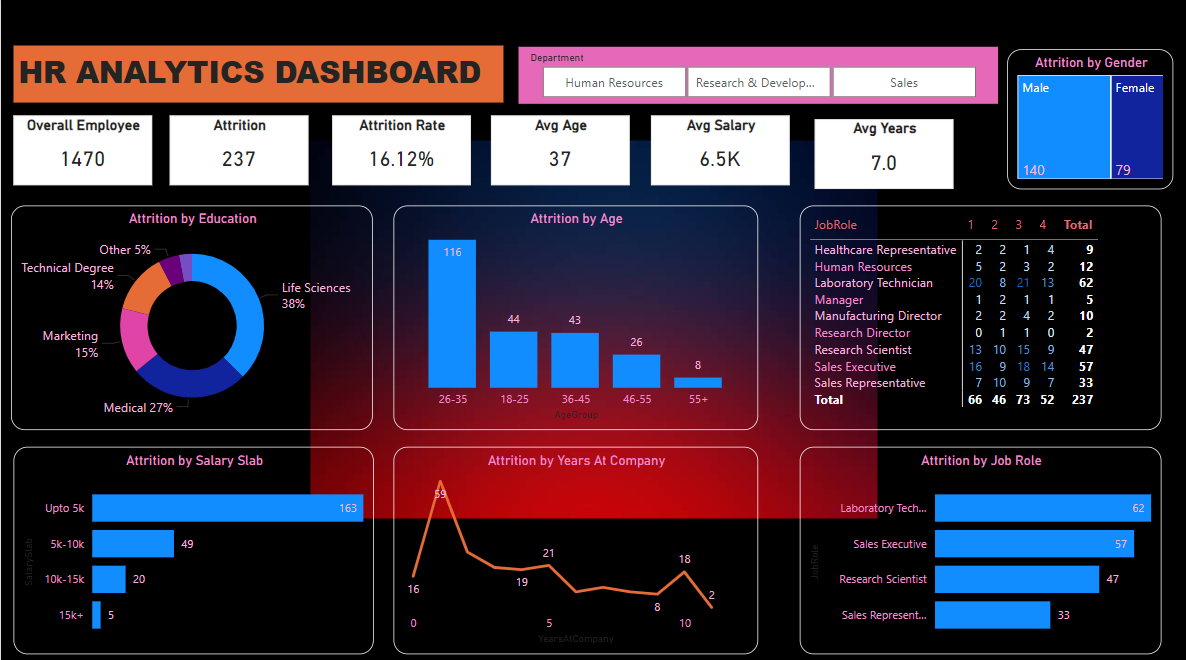

The dashboard page shown, as its layout file describes it:
{"tool":"powerbi","page":{"name":"Page 1","canvas":[1280,720],"ordinal":0},"visuals":[{"type":"card","title":"Overall Employee","fields":{"Values":["CountNonNull(HR_Analytics.EmpID)"]},"box":[12.8,126.9,149.7,75.5],"z":0},{"type":"card","title":"Attrition","fields":{"Values":["Sum(HR_Analytics.AtrritionCount)"]},"box":[182.4,126.9,149.7,75.5],"z":1000},{"type":"card","title":"Attrition Rate","fields":{"Values":["HR_Analytics.AttritionRate"]},"box":[357.8,126.9,149.7,75.5],"z":2000},{"type":"card","title":"Avg Age","fields":{"Values":["Avg(HR_Analytics.Age)"]},"box":[528.8,126.9,149.7,75.5],"z":3000},{"type":"card","title":"Avg Salary","fields":{"Values":["Avg(HR_Analytics.MonthlyIncome)"]},"box":[701.3,126.9,149.7,75.5],"z":4000},{"type":"card","title":"Avg Years","fields":{"Values":["Avg(HR_Analytics.YearsAtCompany)"]},"box":[878,131.1,149.7,75.5],"z":5000},{"type":"donutChart","title":"Attrition by Education","fields":{"Y":["Sum(HR_Analytics.AtrritionCount)"],"Category":["HR_Analytics.EducationField"]},"box":[11.4,223.8,390.6,242.3],"z":6000},{"type":"columnChart","title":"Attrition by Age","fields":{"Category":["HR_Analytics.AgeGroup"],"Y":["Sum(HR_Analytics.AtrritionCount)"]},"box":[423.3,223.8,393.4,242.3],"z":7000},{"type":"pivotTable","fields":{"Rows":["HR_Analytics.JobRole"],"Columns":["HR_Analytics.JobSatisfaction"],"Values":["Sum(HR_Analytics.AtrritionCount)"]},"box":[862.4,223.8,390.6,242.3],"z":8000},{"type":"barChart","title":"Attrition by Salary Slab","fields":{"Category":["HR_Analytics.SalarySlab"],"Y":["Sum(HR_Analytics.AtrritionCount)"]},"box":[12.8,484.6,389.1,223.8],"z":9000},{"type":"barChart","title":"Attrition by Job Role","fields":{"Category":["HR_Analytics.JobRole"],"Y":["Sum(HR_Analytics.AtrritionCount)"]},"box":[862.4,484.6,390.6,223.8],"z":10000},{"type":"lineChart","title":"Attrition by Years At Company","fields":{"Category":["HR_Analytics.YearsAtCompany"],"Y":["Sum(HR_Analytics.AtrritionCount)"]},"box":[423.3,484.6,393.4,223.8],"z":11000},{"type":"treemap","title":"Attrition by Gender","fields":{"Values":["Sum(HR_Analytics.AtrritionCount)"],"Group":["HR_Analytics.Gender"]},"box":[1086.1,55.6,179.6,151.1],"z":12000},{"type":"slicer","fields":{"Values":["HR_Analytics.Department"]},"box":[558.8,52.7,517.4,61.3],"z":13000},{"type":"textbox","box":[12.8,51.3,528.8,61.3],"z":14000}]}

Visuals, with their boxes in screenshot pixels (x1, y1, x2, y2), scaled from the page's 1280x720 canvas onto the 1186x660 screenshot:
"Overall Employee" card: (left=12, top=116, right=151, bottom=186)
"Attrition" card: (left=169, top=116, right=308, bottom=186)
"Attrition Rate" card: (left=332, top=116, right=470, bottom=186)
"Avg Age" card: (left=490, top=116, right=629, bottom=186)
"Avg Salary" card: (left=650, top=116, right=789, bottom=186)
"Avg Years" card: (left=814, top=120, right=952, bottom=189)
"Attrition by Education" donutChart: (left=11, top=205, right=372, bottom=427)
"Attrition by Age" columnChart: (left=392, top=205, right=757, bottom=427)
pivotTable - HR_Analytics.JobRole x HR_Analytics.JobSatisfaction: (left=799, top=205, right=1161, bottom=427)
"Attrition by Salary Slab" barChart: (left=12, top=444, right=372, bottom=649)
"Attrition by Job Role" barChart: (left=799, top=444, right=1161, bottom=649)
"Attrition by Years At Company" lineChart: (left=392, top=444, right=757, bottom=649)
"Attrition by Gender" treemap: (left=1006, top=51, right=1173, bottom=189)
slicer - HR_Analytics.Department: (left=518, top=48, right=997, bottom=104)
textbox: (left=12, top=47, right=502, bottom=103)
